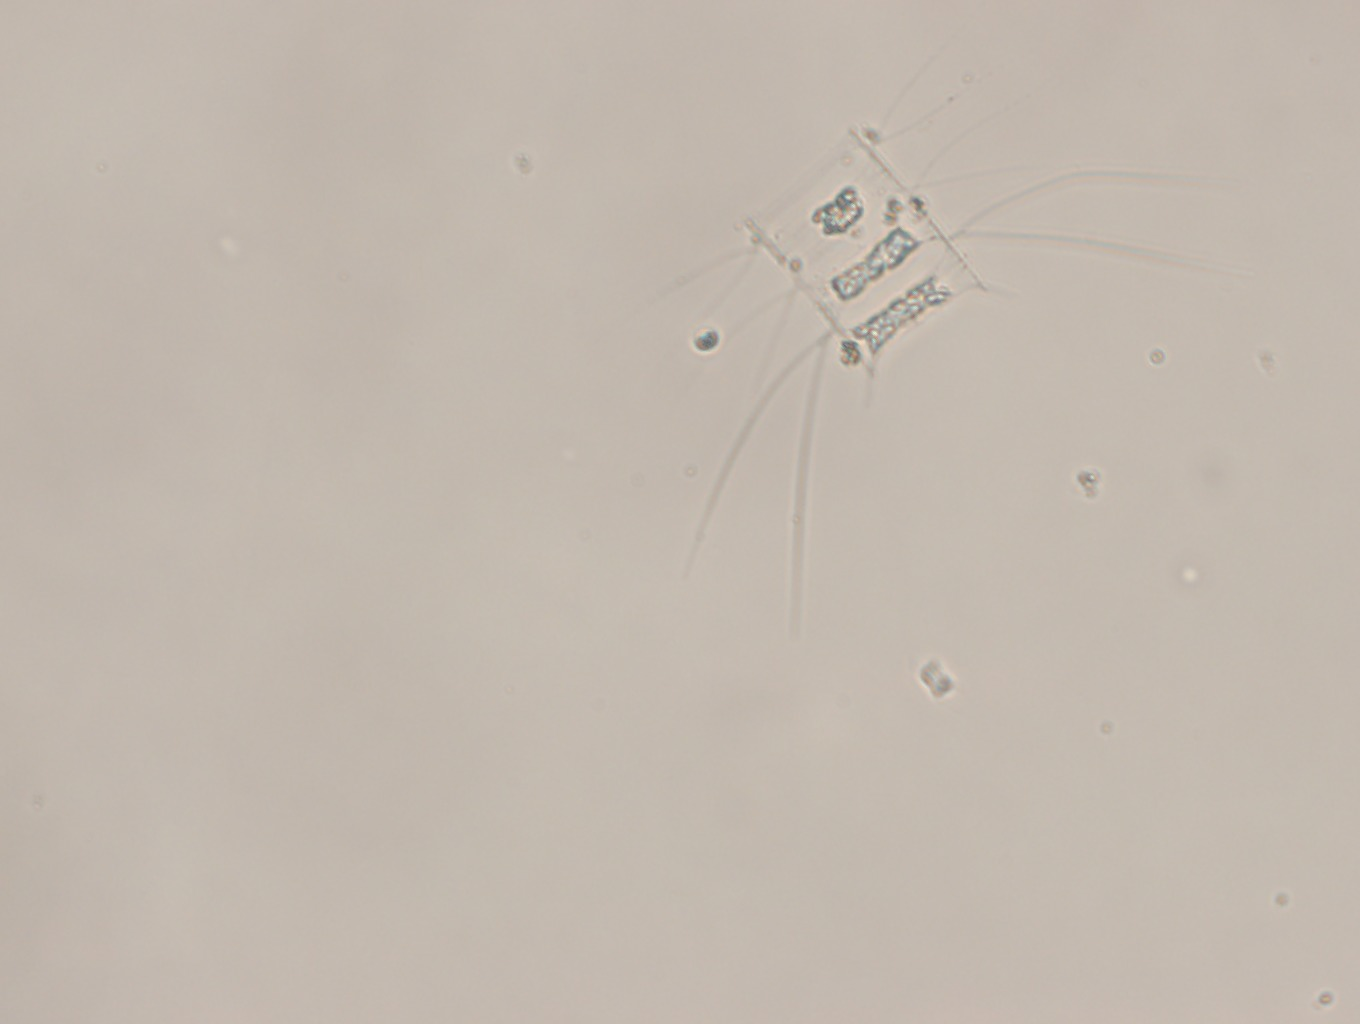chaetoceros: (640, 35, 1206, 627)
